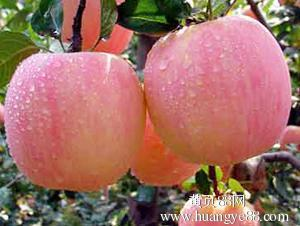apple: (141, 13, 288, 171), (3, 50, 147, 191)
